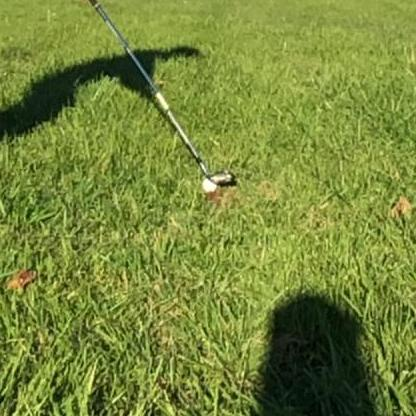golfball: (199, 176, 216, 191)
